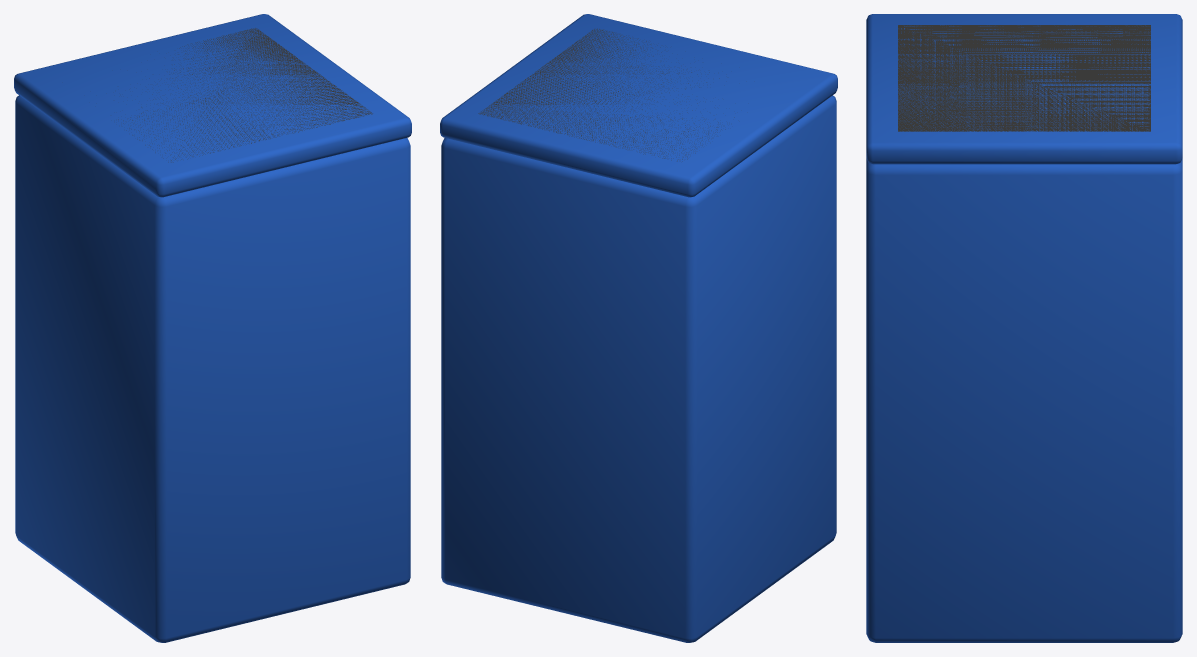
Rendered from utility.recycling-blue.glb.
3 views of the same model, side by side, from view 1: azimuth 30°, elevation 25°; view 2: azimuth 150°, elevation 25°; view 3: azimuth 270°, elevation 25° (orthographic). The views are drawn at different scales.
Visible parts, largest first — view 1: utility.recycling-blue.001; view 2: utility.recycling-blue.001; view 3: utility.recycling-blue.001.
Boxes of the visible parts, x1=… form: utility.recycling-blue.001: x1=14, y1=14, x2=411, y2=642; utility.recycling-blue.001: x1=440, y1=14, x2=837, y2=642; utility.recycling-blue.001: x1=866, y1=14, x2=1182, y2=642.
Size of the model in its own units: 0.4 by 0.7 by 0.4.
